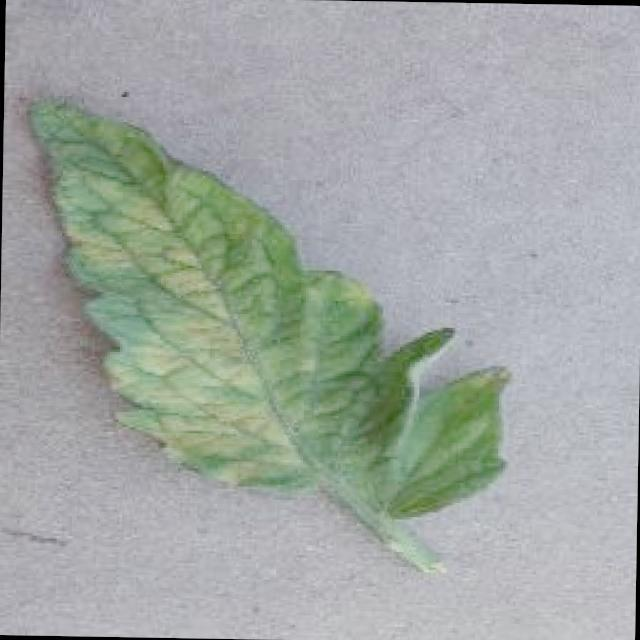Tomato mold leaf: (11, 84, 521, 522)
